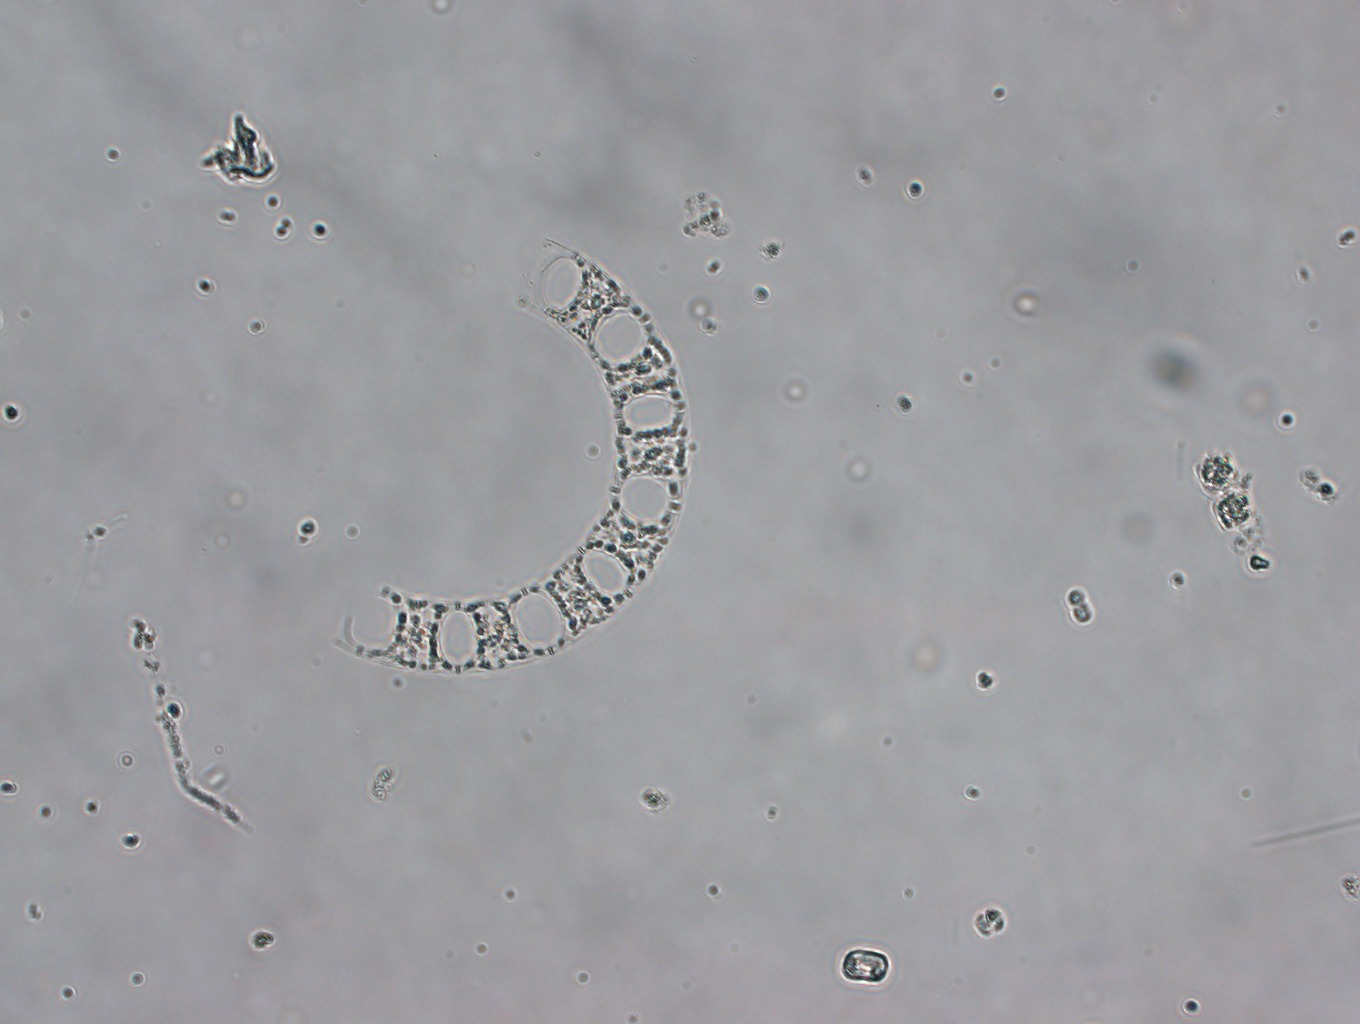eucampia: (315, 229, 696, 680)
